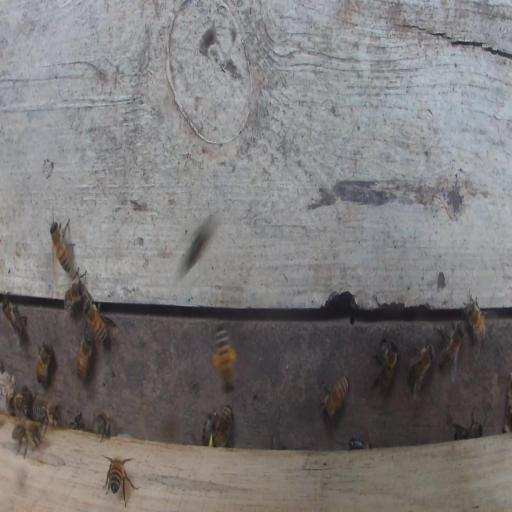bee: (103, 454, 139, 506), (212, 326, 236, 394), (437, 322, 465, 380), (464, 292, 487, 359), (49, 217, 75, 275), (372, 338, 398, 394), (12, 418, 47, 458), (1, 296, 29, 346), (319, 374, 349, 418), (407, 343, 435, 387), (82, 296, 108, 343), (63, 267, 87, 314), (76, 329, 93, 382), (453, 410, 483, 439), (214, 403, 232, 448), (36, 341, 53, 388), (33, 401, 61, 426), (92, 410, 113, 441), (10, 390, 33, 418), (202, 412, 213, 447), (348, 437, 368, 450)
